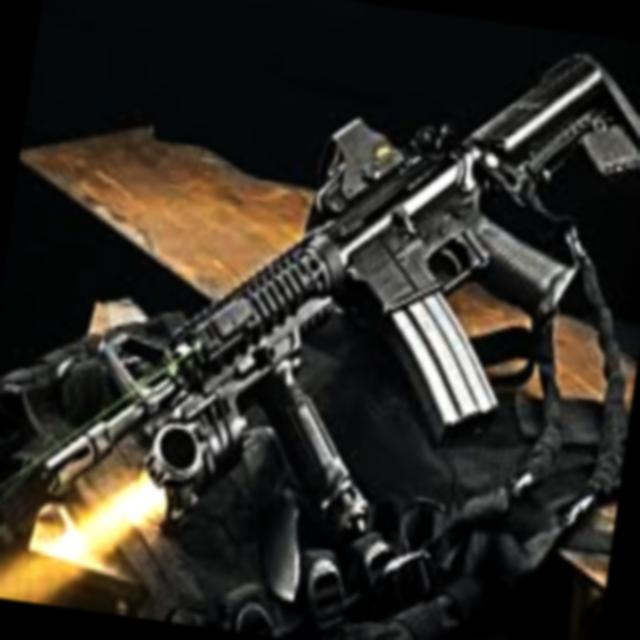m16: (0, 0, 640, 587)
